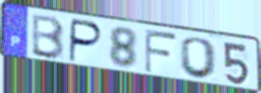5: (222, 40, 251, 86)
8: (108, 25, 139, 71)
B: (30, 13, 67, 61)
F: (143, 28, 180, 76)
O: (178, 36, 219, 81)
P: (67, 17, 105, 64)
